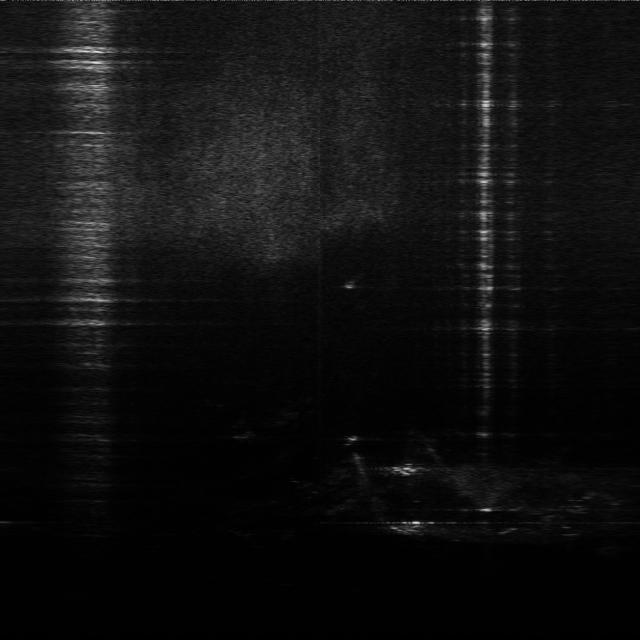rov: (392, 460, 422, 476)
